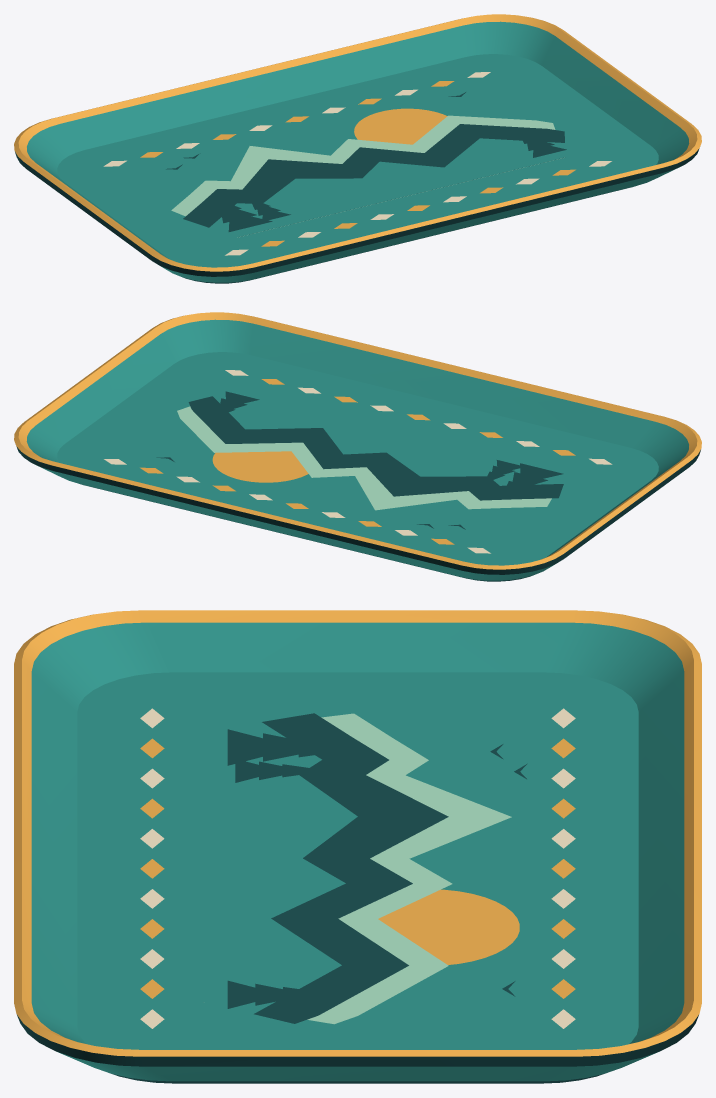
The model's file is rolling_tray.glb.
The picture shows the model from 3 angles, top to bottom: view 1: azimuth 30°, elevation 25°; view 2: azimuth 150°, elevation 25°; view 3: azimuth 270°, elevation 25°; orthographic projection. The views are drawn at different scales.
Visible parts, largest first — view 1: Tray; view 2: Tray; view 3: Tray.
Part boxes in pixels (x1,y1,x2,y2): Tray: (14, 14, 701, 283); Tray: (14, 312, 701, 581); Tray: (14, 610, 701, 1083).
Bounding box in the file's own units: 0.267 × 0.015 × 0.174.
